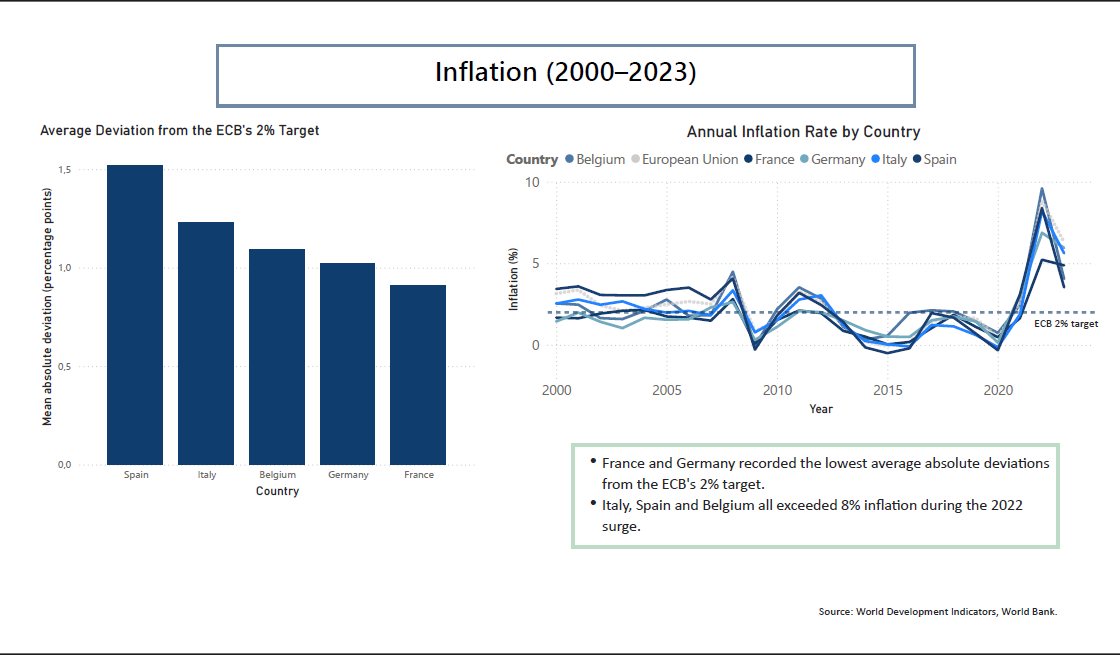

What the dashboard file says about the page in this screenshot:
{"tool":"powerbi","page":{"name":"Inflation","canvas":[1280,720],"ordinal":2},"visuals":[{"type":"textbox","box":[230.6,26.5,825.8,73.7],"z":0},{"type":"lineChart","title":"Annual Inflation Rate by Country","fields":{"Category":["API_SL UEM TOTL ZS_DS2_en_csv_v2_33398.Year"],"Series":["API_SL UEM TOTL ZS_DS2_en_csv_v2_33398.Country"],"Y":["API_SL UEM TOTL ZS_DS2_en_csv_v2_33398.Avg Inflation"]},"box":[567.8,116.6,711.7,351.3],"z":1000},{"type":"textbox","box":[650.1,497,574.5,122.8],"z":2000},{"type":"textbox","box":[937.3,680.3,342,39.7],"z":3000},{"type":"columnChart","title":"Average Deviation from the ECB''s 2% Target","fields":{"Category":["API_SL UEM TOTL ZS_DS2_en_csv_v2_33398.Country"],"Y":["API_SL UEM TOTL ZS_DS2_en_csv_v2_33398.Average Absolute Deviation from ECB Target"]},"box":[18.2,116.6,523.9,448.2],"z":4000},{"type":"textbox","box":[1190.6,340.2,88.8,35.9],"z":5000}]}

Visuals, with their boxes on the page's 1280x720 design canvas (x1, y1, x2, y2). These are canvas units, not pixel positions in the 1120x655 screenshot, which may show the page scaled, cropped or inside an application window:
textbox: 231,26,1056,100
"Annual Inflation Rate by Country" lineChart: 568,117,1280,468
textbox: 650,497,1225,620
textbox: 937,680,1279,720
"Average Deviation from the ECB''s 2% Target" columnChart: 18,117,542,565
textbox: 1191,340,1279,376
